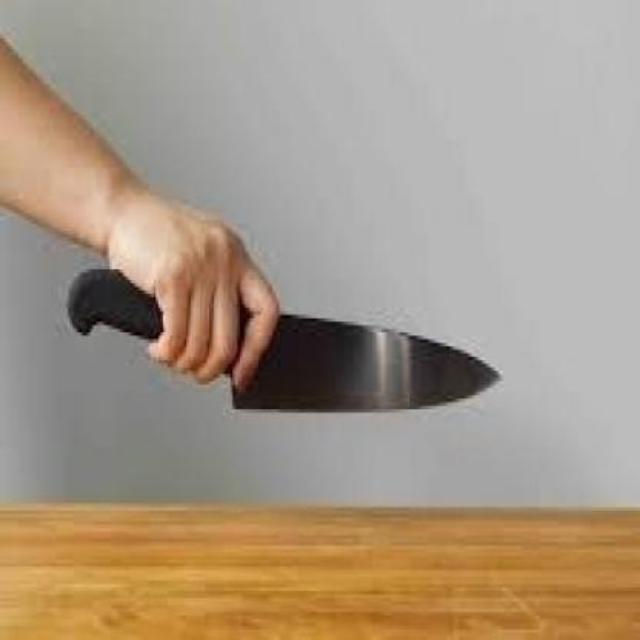Knife: (70, 271, 504, 411)
